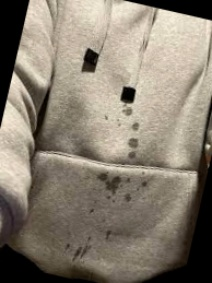oil: (59, 239, 97, 265), (96, 170, 125, 196), (119, 106, 140, 124), (126, 138, 142, 160), (100, 113, 115, 131), (129, 122, 142, 137), (105, 227, 114, 241), (124, 193, 134, 203), (141, 182, 149, 191), (91, 206, 99, 215), (136, 171, 145, 178)
